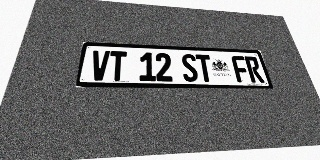1: (139, 52, 156, 81)
2: (155, 53, 172, 81)
F: (231, 56, 251, 82)
R: (244, 56, 265, 83)
S: (181, 54, 199, 82)
T: (108, 51, 127, 81), (195, 54, 214, 82)
V: (89, 50, 110, 81)
